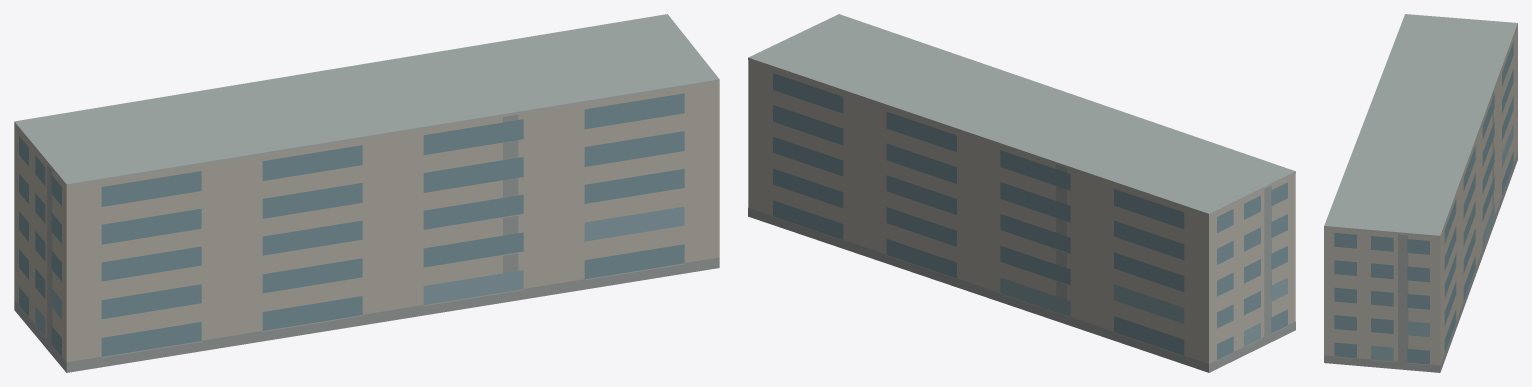
File: residential-e5b9af07-fcf8-40ae-82a0-02a15e0ffaa9.glb
3 renders of one model, left to right at view 1: azimuth 30°, elevation 25°; view 2: azimuth 150°, elevation 25°; view 3: azimuth 270°, elevation 25°, orthographic. The views are drawn at different scales.
Visible parts, largest first — view 1: residential-e5b9af07-fcf8-40ae-82a0-02a15e0ffaa9.tmp; view 2: residential-e5b9af07-fcf8-40ae-82a0-02a15e0ffaa9.tmp; view 3: residential-e5b9af07-fcf8-40ae-82a0-02a15e0ffaa9.tmp.
Boxes of the visible parts, x1,y1,x2,y2 form: residential-e5b9af07-fcf8-40ae-82a0-02a15e0ffaa9.tmp: [14, 14, 719, 372]; residential-e5b9af07-fcf8-40ae-82a0-02a15e0ffaa9.tmp: [748, 14, 1295, 372]; residential-e5b9af07-fcf8-40ae-82a0-02a15e0ffaa9.tmp: [1324, 14, 1517, 372].
Size of the model in its own units: 52.92 by 15.25 by 19.54.
